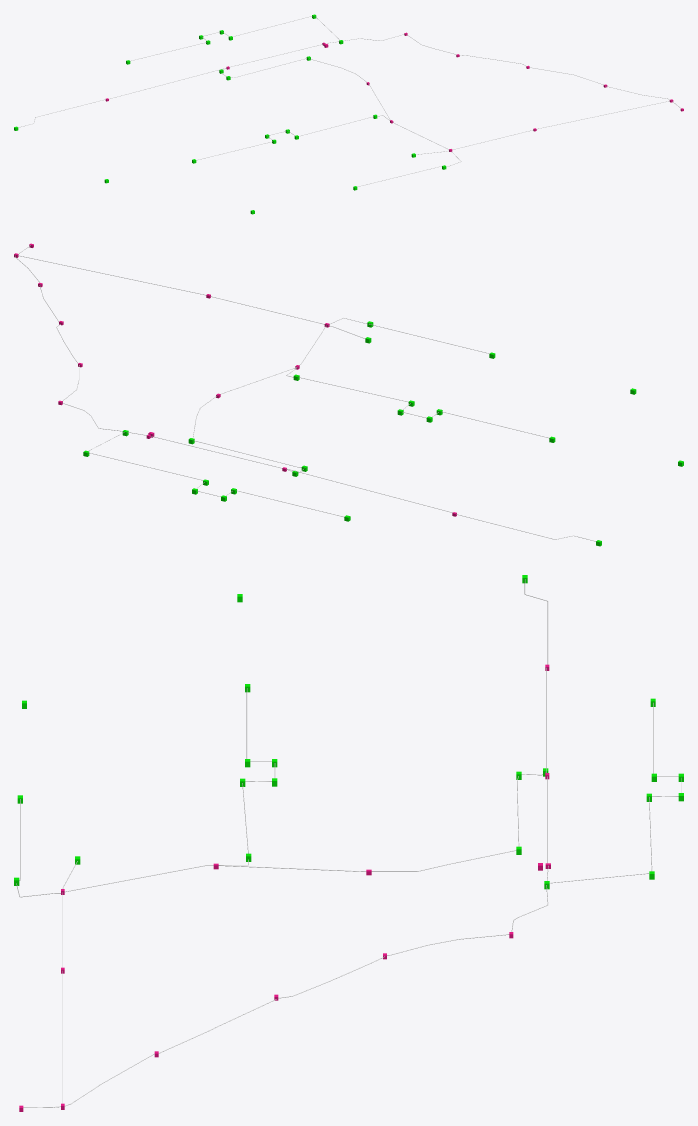
File: Fibra optica.fbx
3 renders of one model, top to bottom at view 1: azimuth 30°, elevation 25°; view 2: azimuth 150°, elevation 25°; view 3: azimuth 270°, elevation 25°, orthographic. The views are drawn at different scales.
Size of the model in its own units: 192 by 8.48 by 108.
